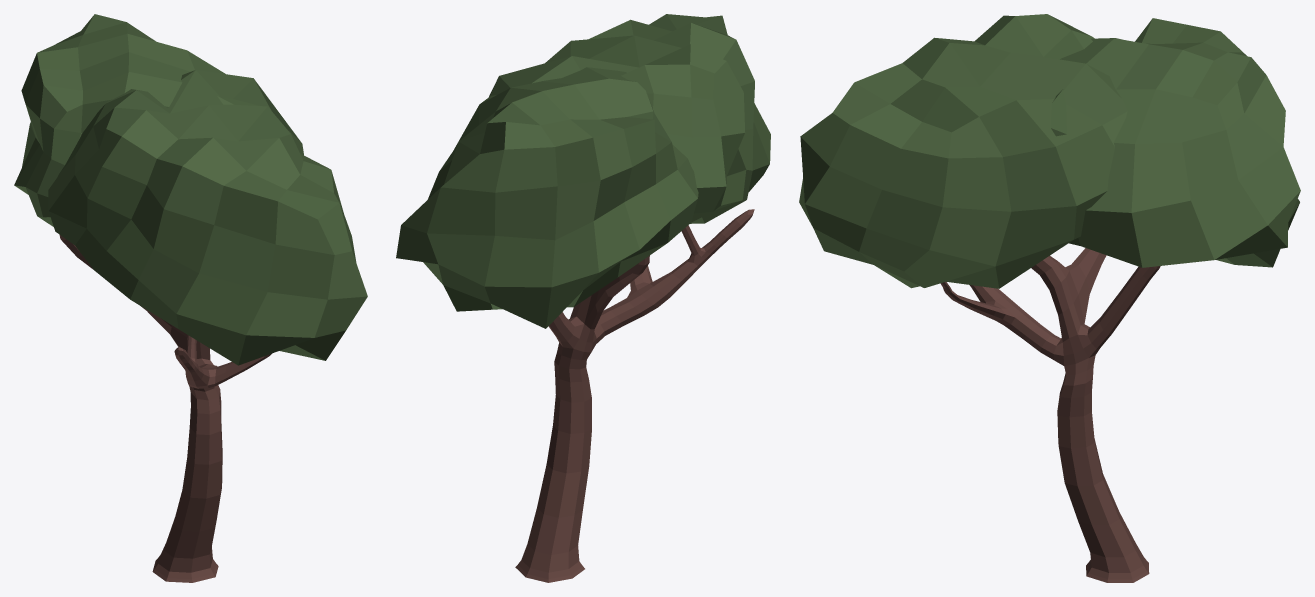
Rendered from CommonTree_5.glb.
3 views of the same model, side by side, from view 1: azimuth 30°, elevation 25°; view 2: azimuth 150°, elevation 25°; view 3: azimuth 270°, elevation 25° (orthographic). The views are drawn at different scales.
Parts seen in each view (by area): view 1: CommonTree_5; view 2: CommonTree_5; view 3: CommonTree_5.
Boxes of the visible parts, x1=… form: CommonTree_5: x1=14, y1=14, x2=367, y2=582; CommonTree_5: x1=396, y1=14, x2=770, y2=582; CommonTree_5: x1=799, y1=14, x2=1300, y2=582.
Size of the model in its own units: 1.29 by 2.53 by 2.25.
